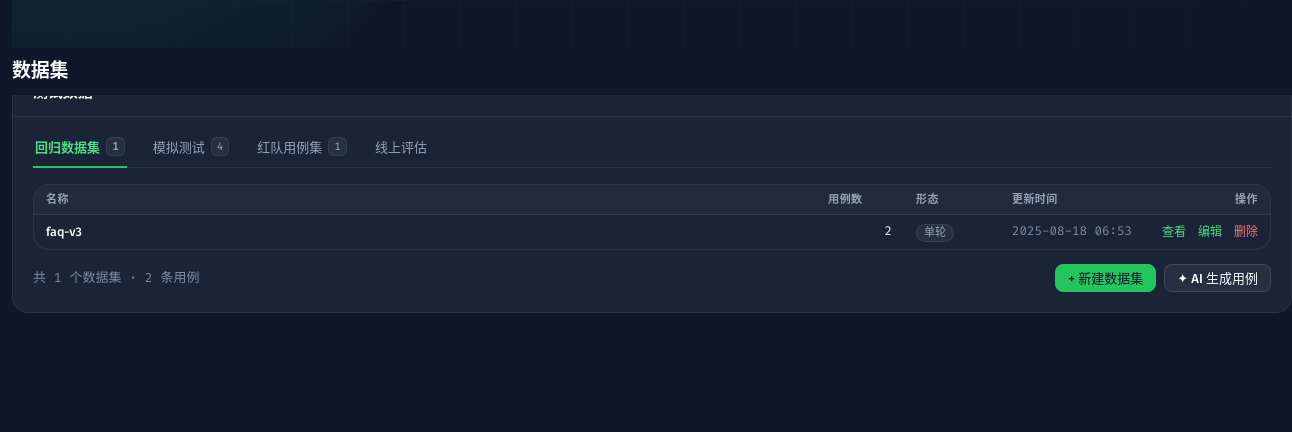
测试数据四 tab › 双读归类：显式 kind:simulation、形态推断的历史多轮集、空模拟集都在模拟 tab
Expected: the panel with test id "testdata-pane-dataset" is shown, x1=33 y1=184 x2=1271 y2=292
Click the tab with test id "testdata-tab-simulation": [191, 152] box x1=151 y1=137 x2=231 y2=168
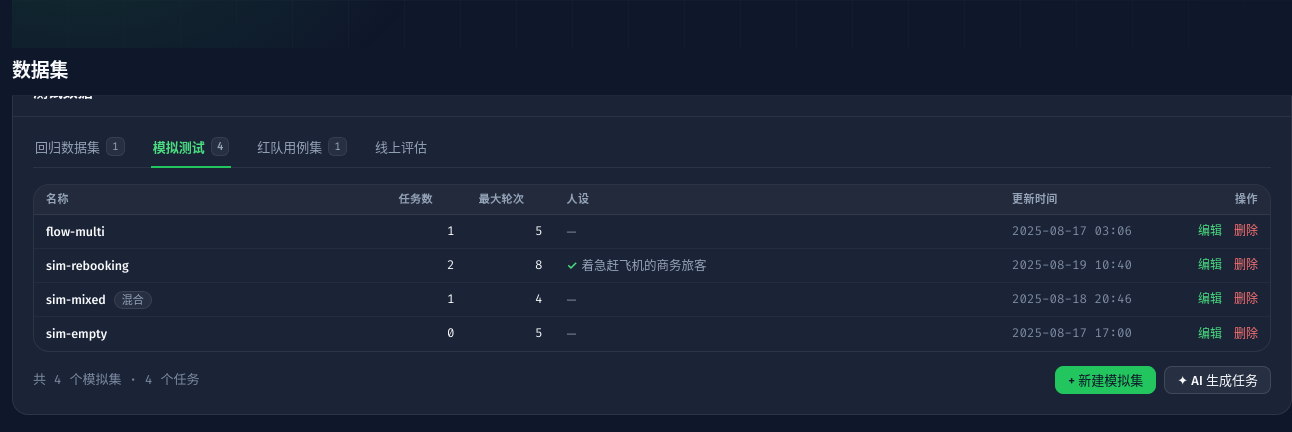
Now the row with test id "simset-row-sim-rebooking" is shown, box x1=34 y1=249 x2=1270 y2=283
Now the row with test id "simset-row-flow-multi" is shown, box x1=34 y1=215 x2=1270 y2=249
Now the row with test id "simset-row-sim-empty" is shown, box x1=34 y1=317 x2=1270 y2=351
